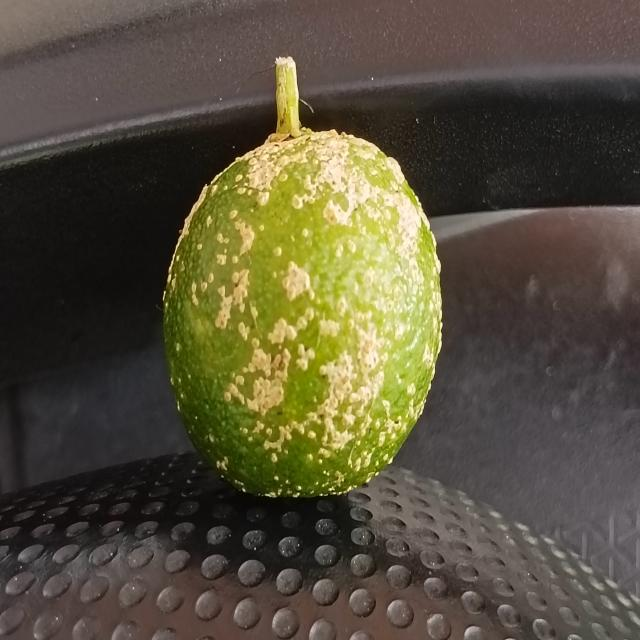scab: (152, 117, 447, 500)
